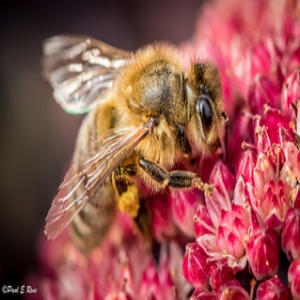bee: (42, 34, 230, 251)
